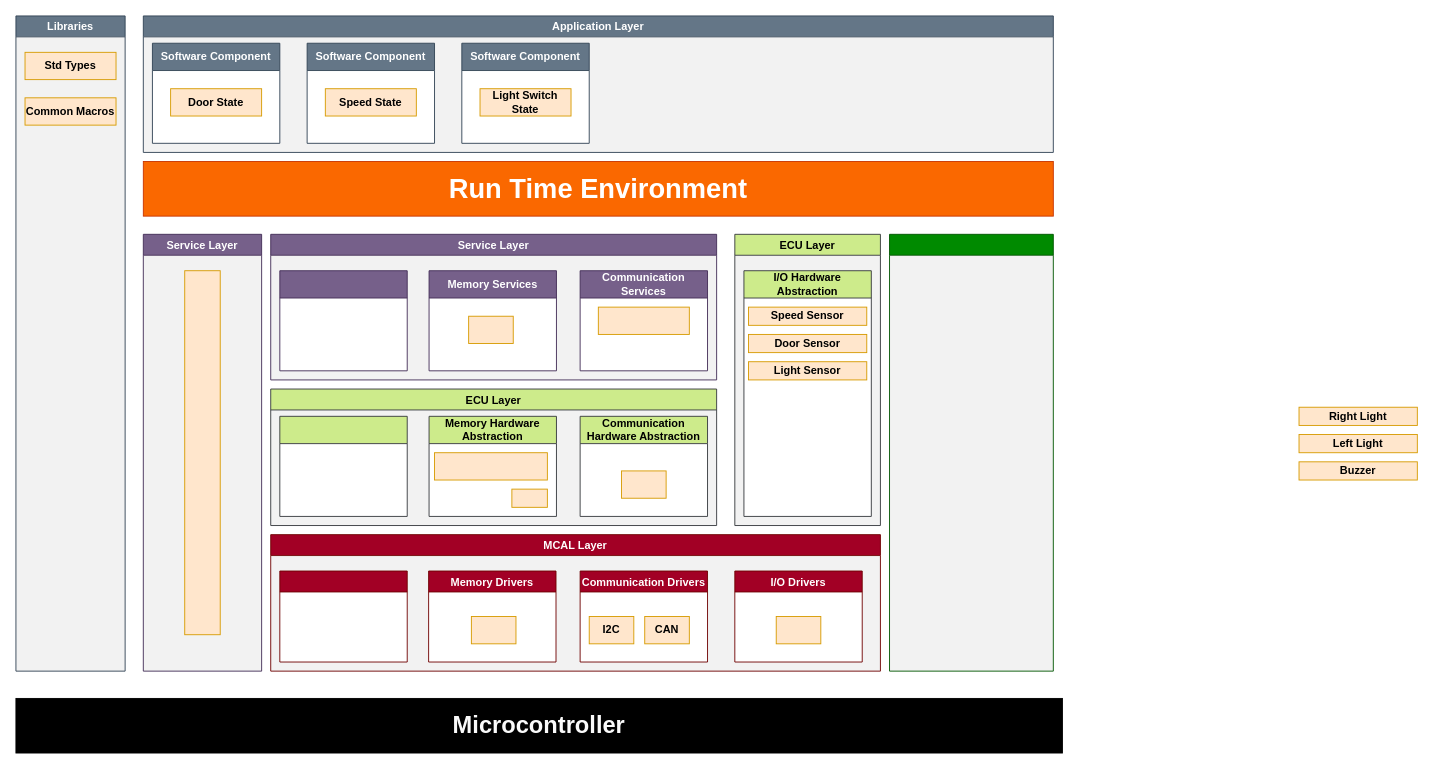
Image size: 1433x769. Some labels were removed from this diagram. Here are the shapes that lost their labels. From the top down, the centre of each, then its label:
At (x=343, y=320): "System Services".
At (x=490, y=329): "NVM".
At (x=643, y=320): "COM".
At (x=202, y=452): "AUTOSAR OS".
At (x=343, y=465): "Onboard Device Abstraction".
At (x=490, y=466): "memif".
At (x=971, y=452): "Complex Drivers".
At (x=529, y=497): "Fee".
At (x=643, y=484): "CANIF".
At (x=343, y=616): "Microcontroller Drivers".
At (x=493, y=630): "Fls".
At (x=798, y=630): "DIO".
